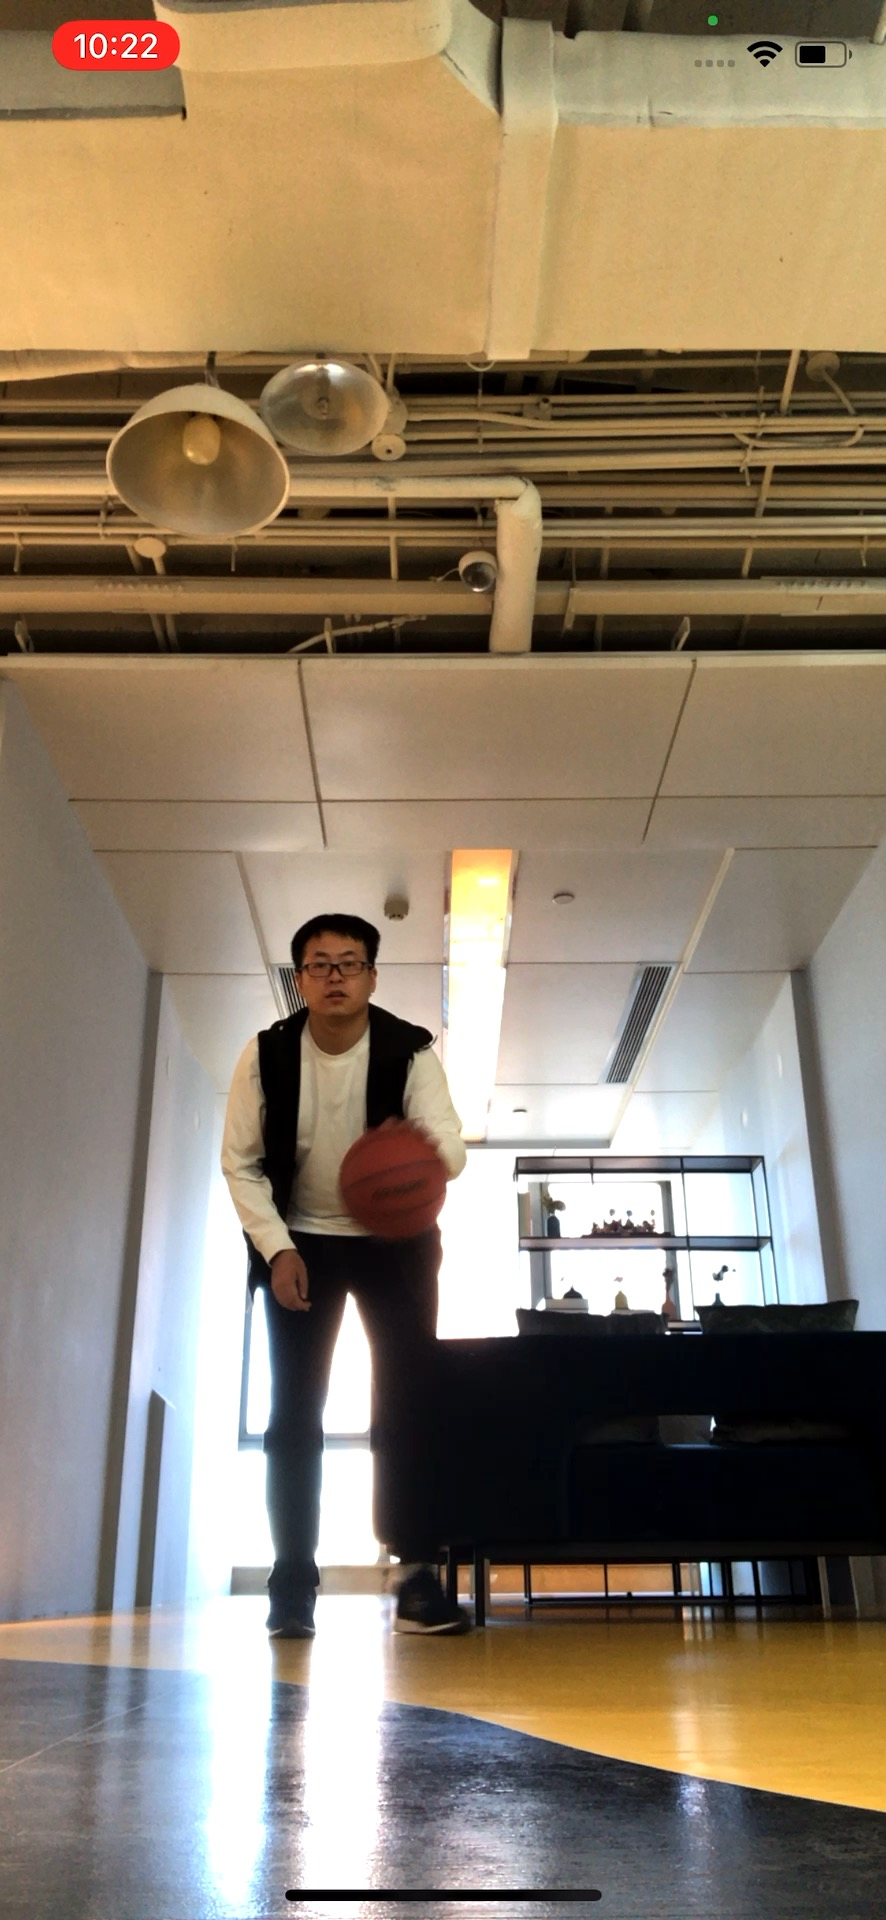ball: (337, 1123, 449, 1239)
